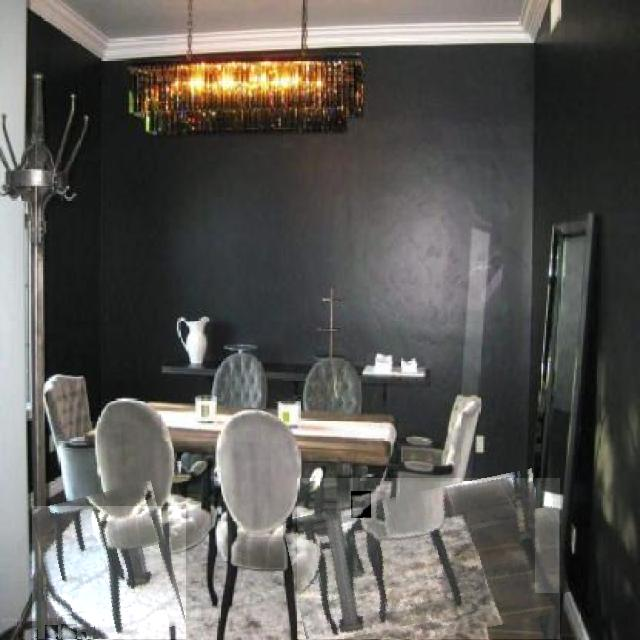floor: (297, 479, 560, 640), (32, 507, 186, 640), (535, 509, 559, 593), (48, 597, 72, 618), (352, 492, 371, 518), (24, 602, 37, 623), (62, 624, 77, 640), (22, 628, 38, 639), (46, 626, 58, 639), (81, 633, 86, 640)
